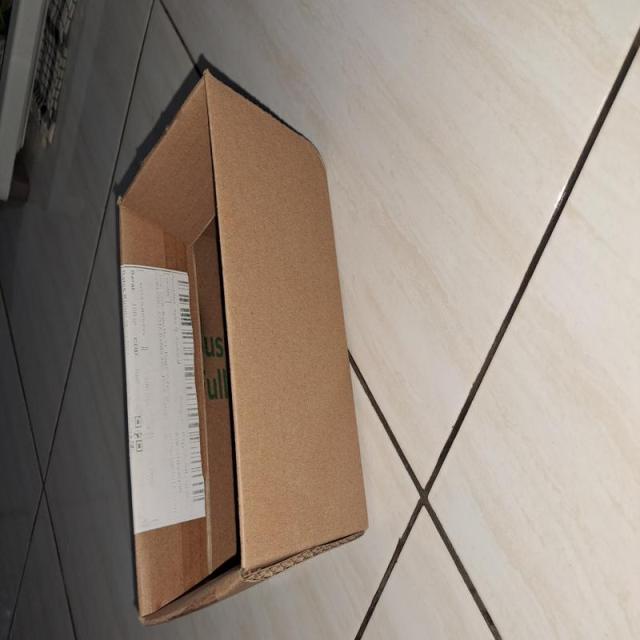Organik: (85, 64, 387, 631)
